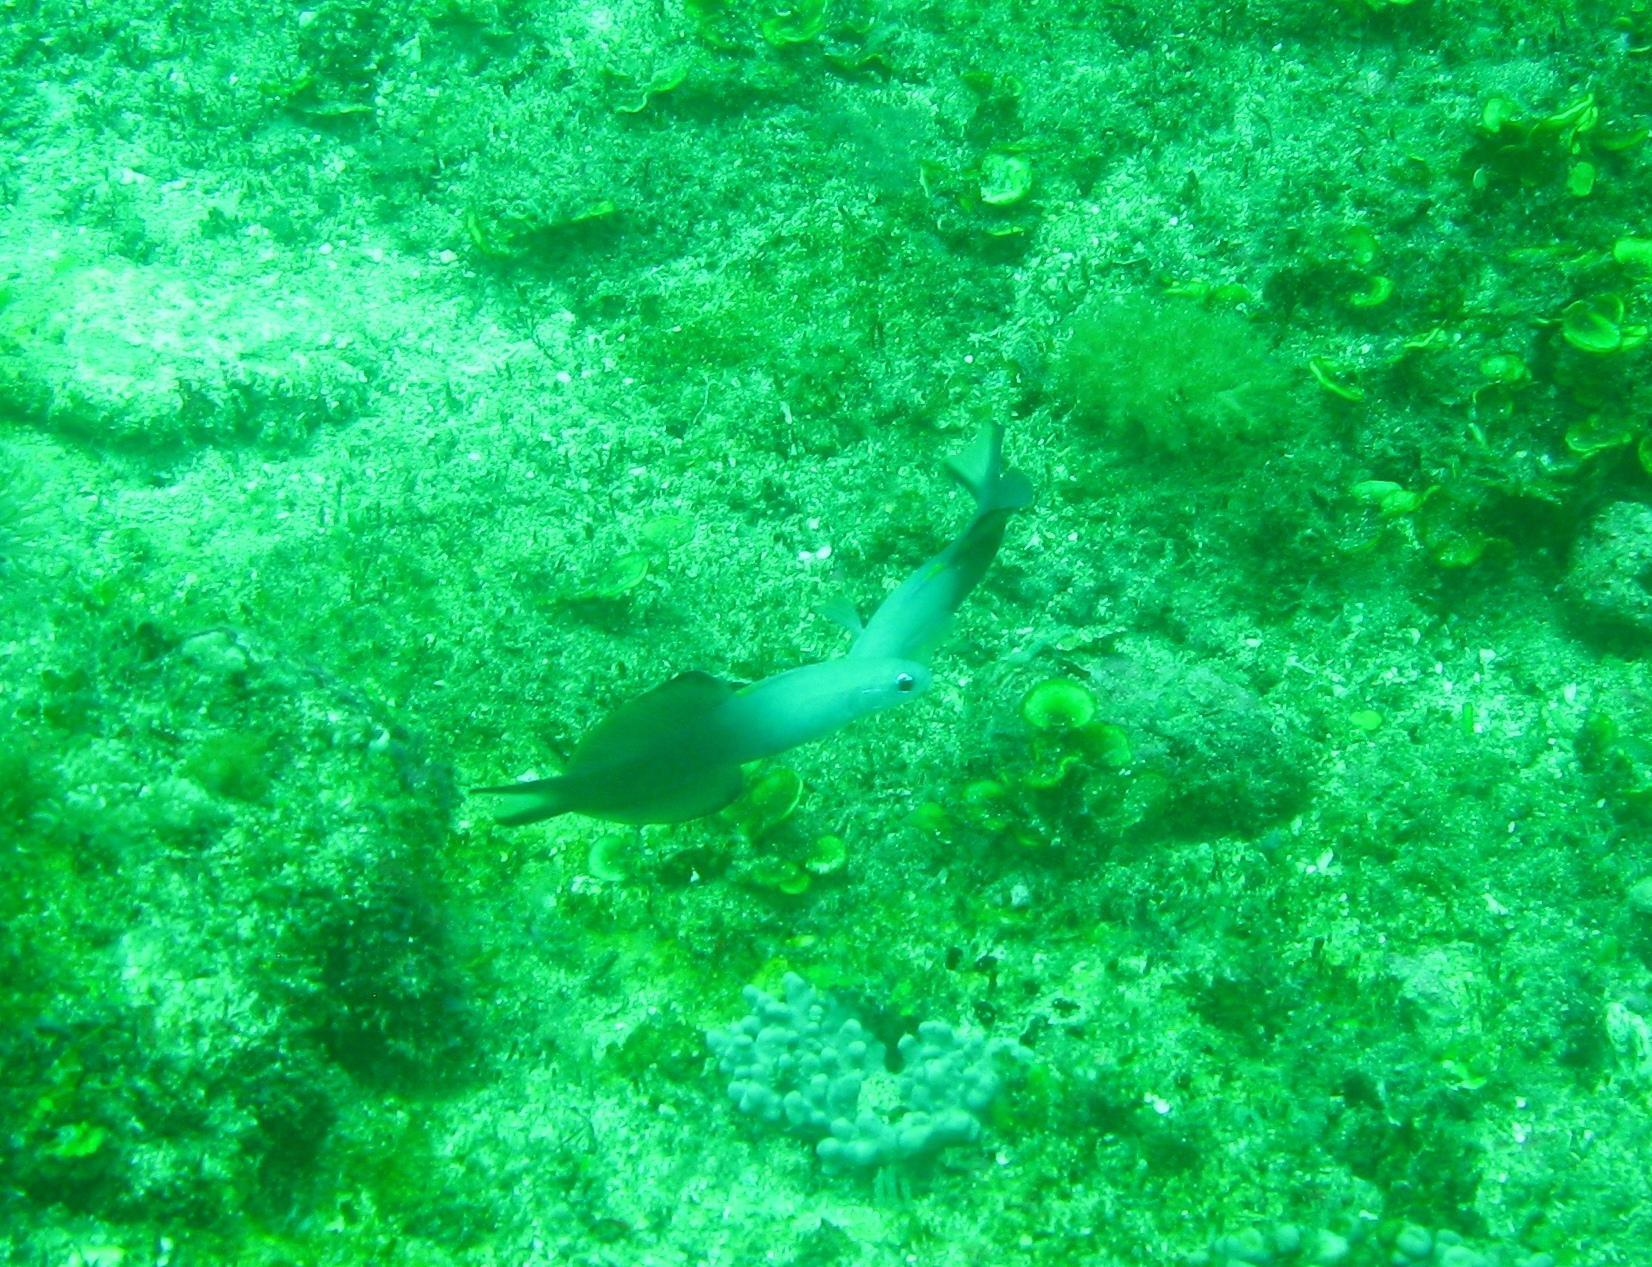Fish: (450, 568, 953, 880)
